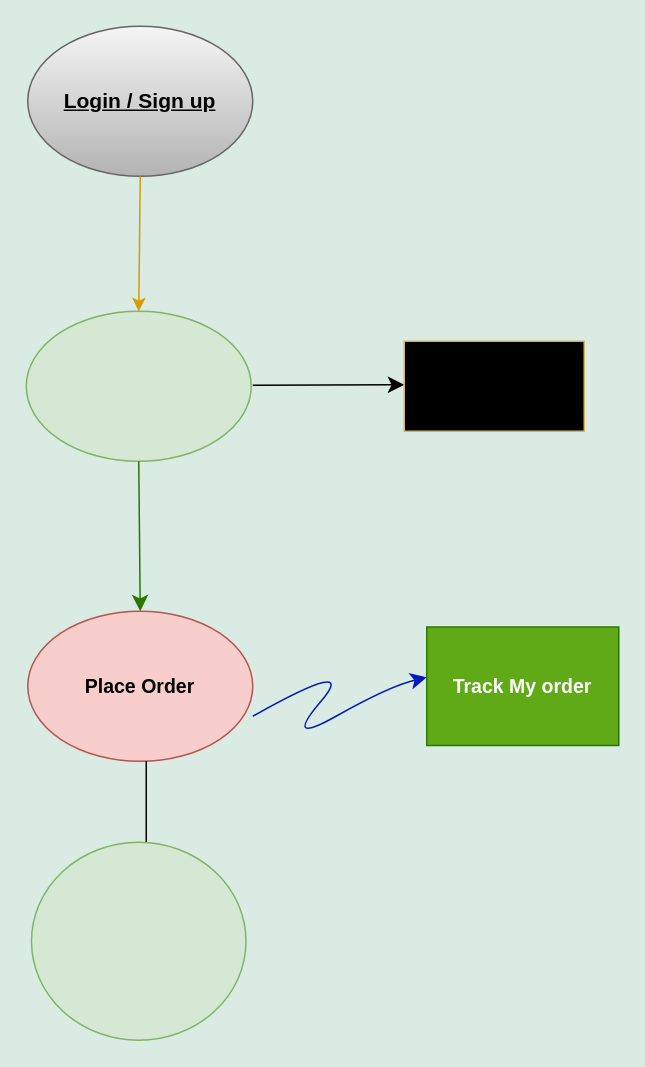
This 645x1067 diagram has some shape labels left out. Each missing label, with the centre of its shape:
"EXIT" goes at (x=138, y=940).
"Search / Explore Restaurant’s" goes at (x=138, y=385).
